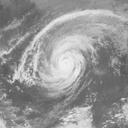cyclone: (13, 31, 96, 94)
